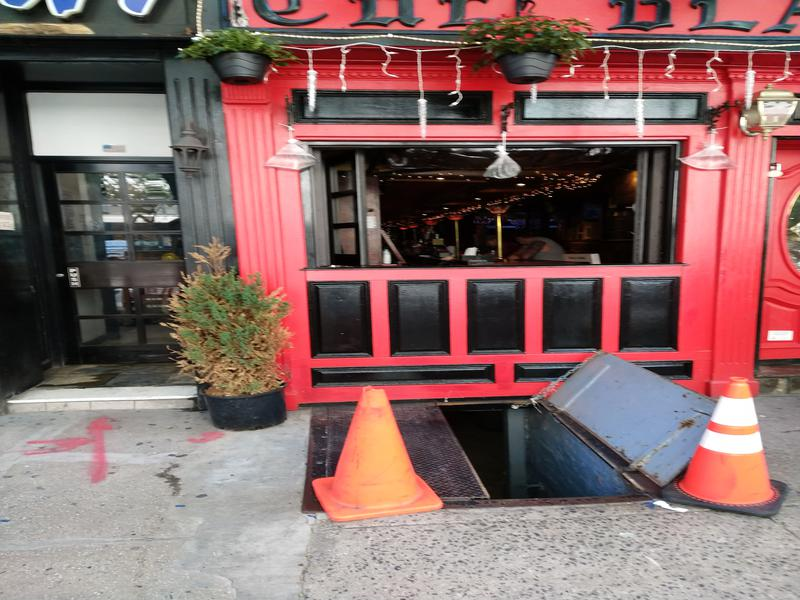door: (30, 156, 200, 368)
